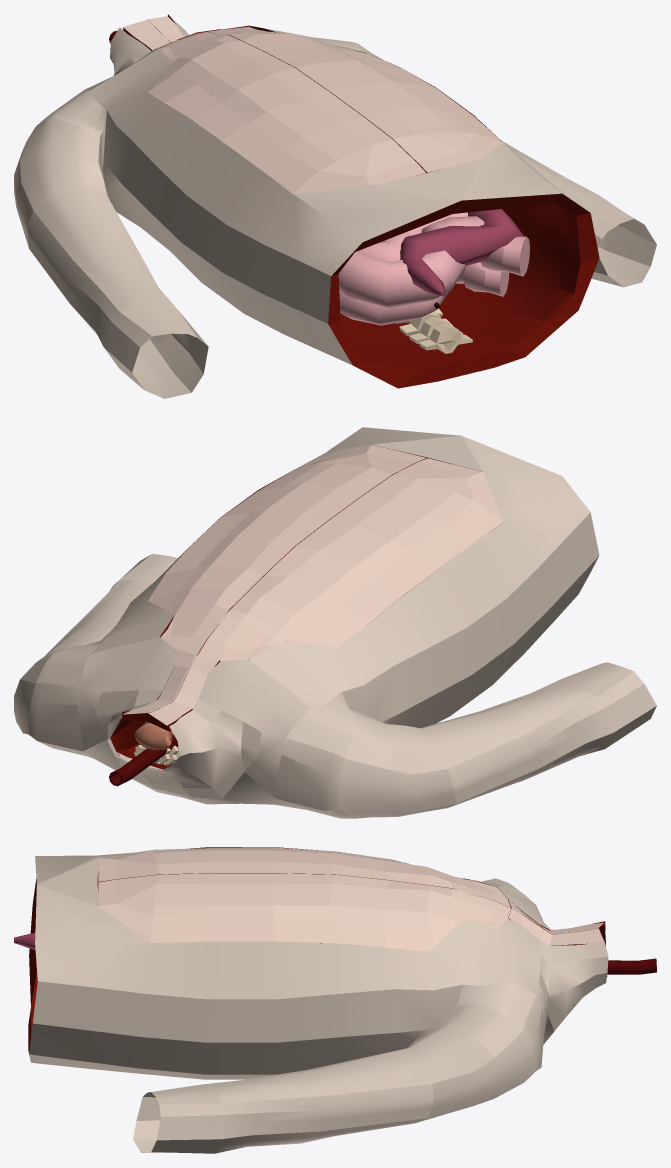
Rendered from BODY_TEXTURED_V2.fbx.
3 views of the same model, one above another, from view 1: azimuth 30°, elevation 25°; view 2: azimuth 150°, elevation 25°; view 3: azimuth 270°, elevation 25° (orthographic). The views are drawn at different scales.
Parts seen in each view (by area): view 1: BodyMesh, Ventre_Gauche, Ventre_Droit, Intestin_1, Intestin_Grele, Intestin_2, Cou_Gauche, poumon:poumon:Vert_Tho_03; view 2: BodyMesh, Ventre_Gauche, Ventre_Droit, Cou_Gauche, Cou_Droit, Oseo, Trachee1; view 3: BodyMesh, Ventre_Droit, Ventre_Gauche, Cou_Droit, Oseo, Cou_Gauche.
Boxes of the visible parts, <box> form: BodyMesh: <box>14,14,656,398</box>; Ventre_Gauche: <box>147,32,426,194</box>; Ventre_Droit: <box>207,26,503,172</box>; Intestin_1: <box>338,212,529,308</box>; Intestin_Grele: <box>400,209,523,296</box>; Intestin_2: <box>339,262,509,325</box>; Cou_Gauche: <box>123,19,197,50</box>; poumon:poumon:Vert_Tho_03: <box>418,323,455,350</box>; BodyMesh: <box>14,427,656,818</box>; Ventre_Gauche: <box>198,458,503,661</box>; Ventre_Droit: <box>148,445,426,655</box>; Cou_Gauche: <box>146,655,219,731</box>; Cou_Droit: <box>122,649,196,721</box>; Oseo: <box>109,735,178,786</box>; Trachee1: <box>134,722,172,749</box>; BodyMesh: <box>28,847,608,1153</box>; Ventre_Droit: <box>98,873,510,951</box>; Ventre_Gauche: <box>98,847,510,908</box>; Cou_Droit: <box>508,908,603,945</box>; Oseo: <box>607,958,656,974</box>; Cou_Gauche: <box>508,899,603,934</box>.
Size of the model in its own units: 19.26 by 7.08 by 22.79.
